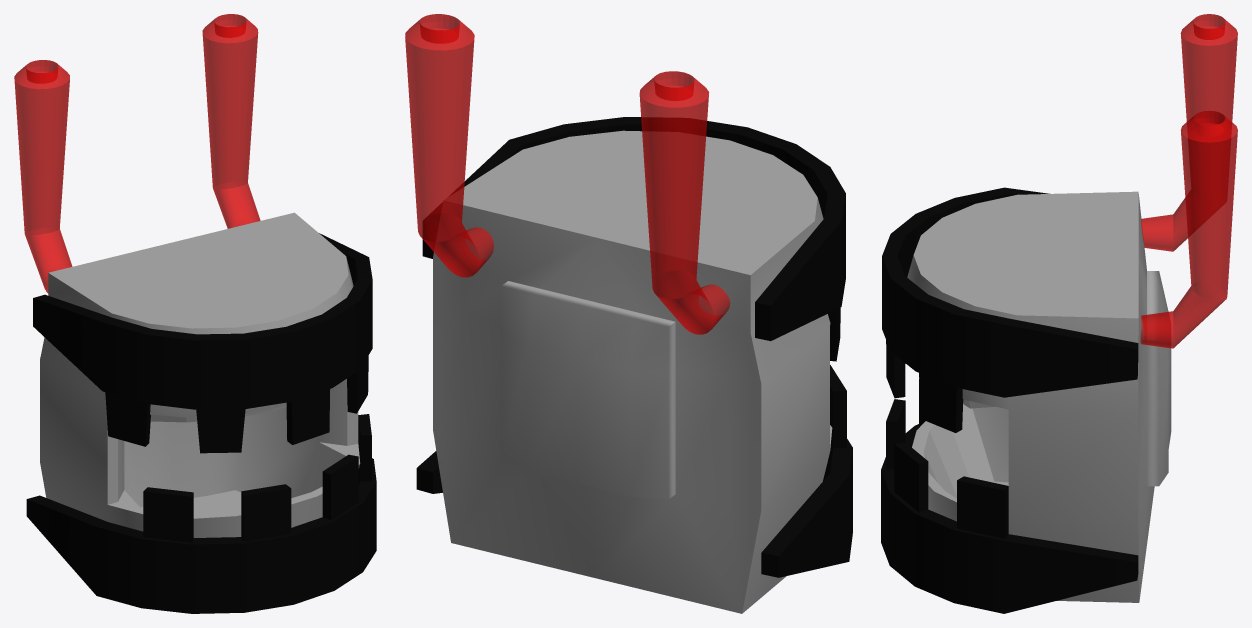
Rendered from Four bouche lapin cretin.fbx.
3 views of the same model, side by side, from view 1: azimuth 30°, elevation 25°; view 2: azimuth 150°, elevation 25°; view 3: azimuth 270°, elevation 25° (orthographic). The views are drawn at different scales.
Visible parts, largest first — view 1: Bouche, machoire_bas, machoire_haut, echappement_droit, echappement_gauche; view 2: Bouche, machoire_haut, echappement_droit, echappement_gauche, machoire_bas; view 3: Bouche, machoire_haut, machoire_bas, echappement_gauche, echappement_droit.
Boxes of the visible parts, box(x1,y1,x2,y2) form: Bouche: box(40, 212, 360, 537); machoire_bas: box(26, 414, 376, 613); machoire_haut: box(33, 233, 372, 453); echappement_droit: box(14, 60, 72, 293); echappement_gauche: box(202, 14, 260, 228); Bouche: box(433, 130, 832, 613); machoire_haut: box(422, 117, 845, 361); echappement_droit: box(639, 71, 730, 334); echappement_gauche: box(405, 14, 493, 277); machoire_bas: box(416, 365, 852, 577); Bouche: box(907, 191, 1171, 602); machoire_haut: box(882, 187, 1138, 432); machoire_bas: box(881, 379, 1138, 613); echappement_gauche: box(1140, 110, 1237, 348); echappement_droit: box(1141, 14, 1237, 251).
Size of the model in its own units: 441 by 650 by 445.
